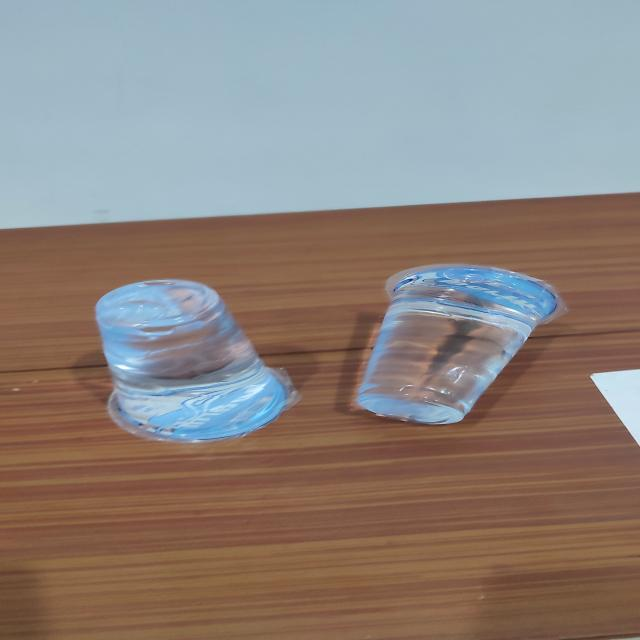air gelas: (343, 257, 571, 429), (95, 272, 312, 446)
